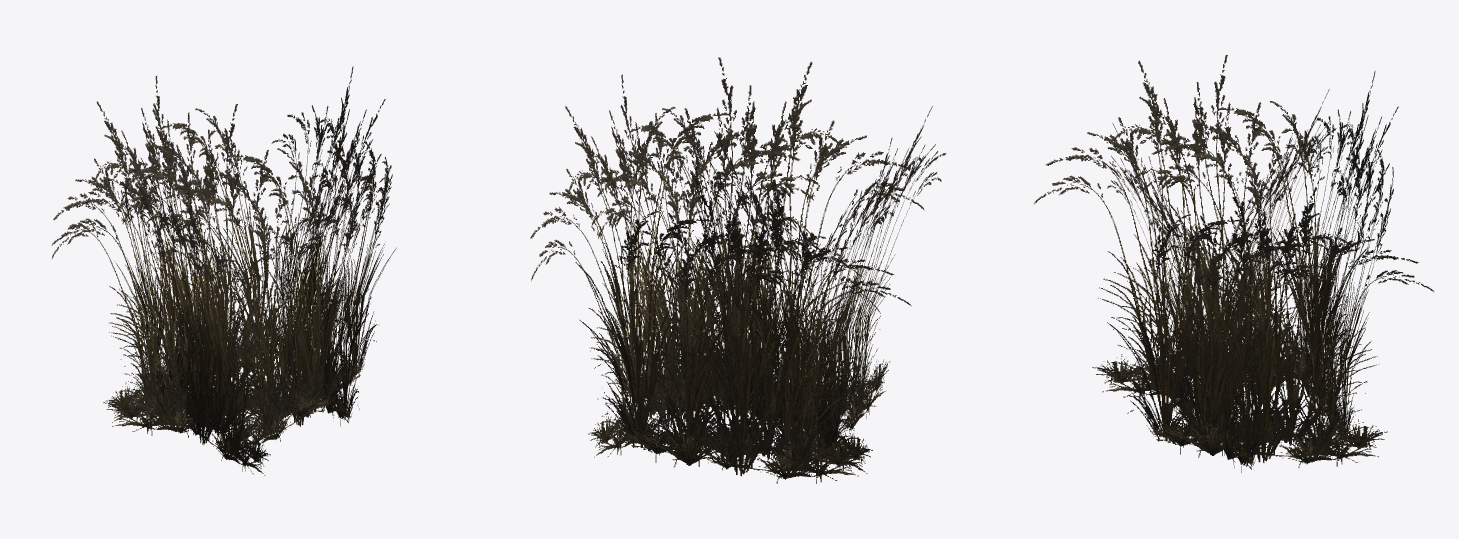
The model's file is grass_3.glb.
3 views of the same model, side by side, from view 1: azimuth 30°, elevation 25°; view 2: azimuth 150°, elevation 25°; view 3: azimuth 270°, elevation 25° (orthographic). The views are drawn at different scales.
Parts seen in each view (by area): view 1: grass_3; view 2: grass_3; view 3: grass_3.
Boxes of the visible parts, bbox=[...] form: grass_3: bbox=[51, 66, 396, 475]; grass_3: bbox=[530, 57, 946, 483]; grass_3: bbox=[1034, 55, 1433, 472].
Bounding box in the file's own units: 1.24 × 1.04 × 1.16.
1 material, 1 textured.
